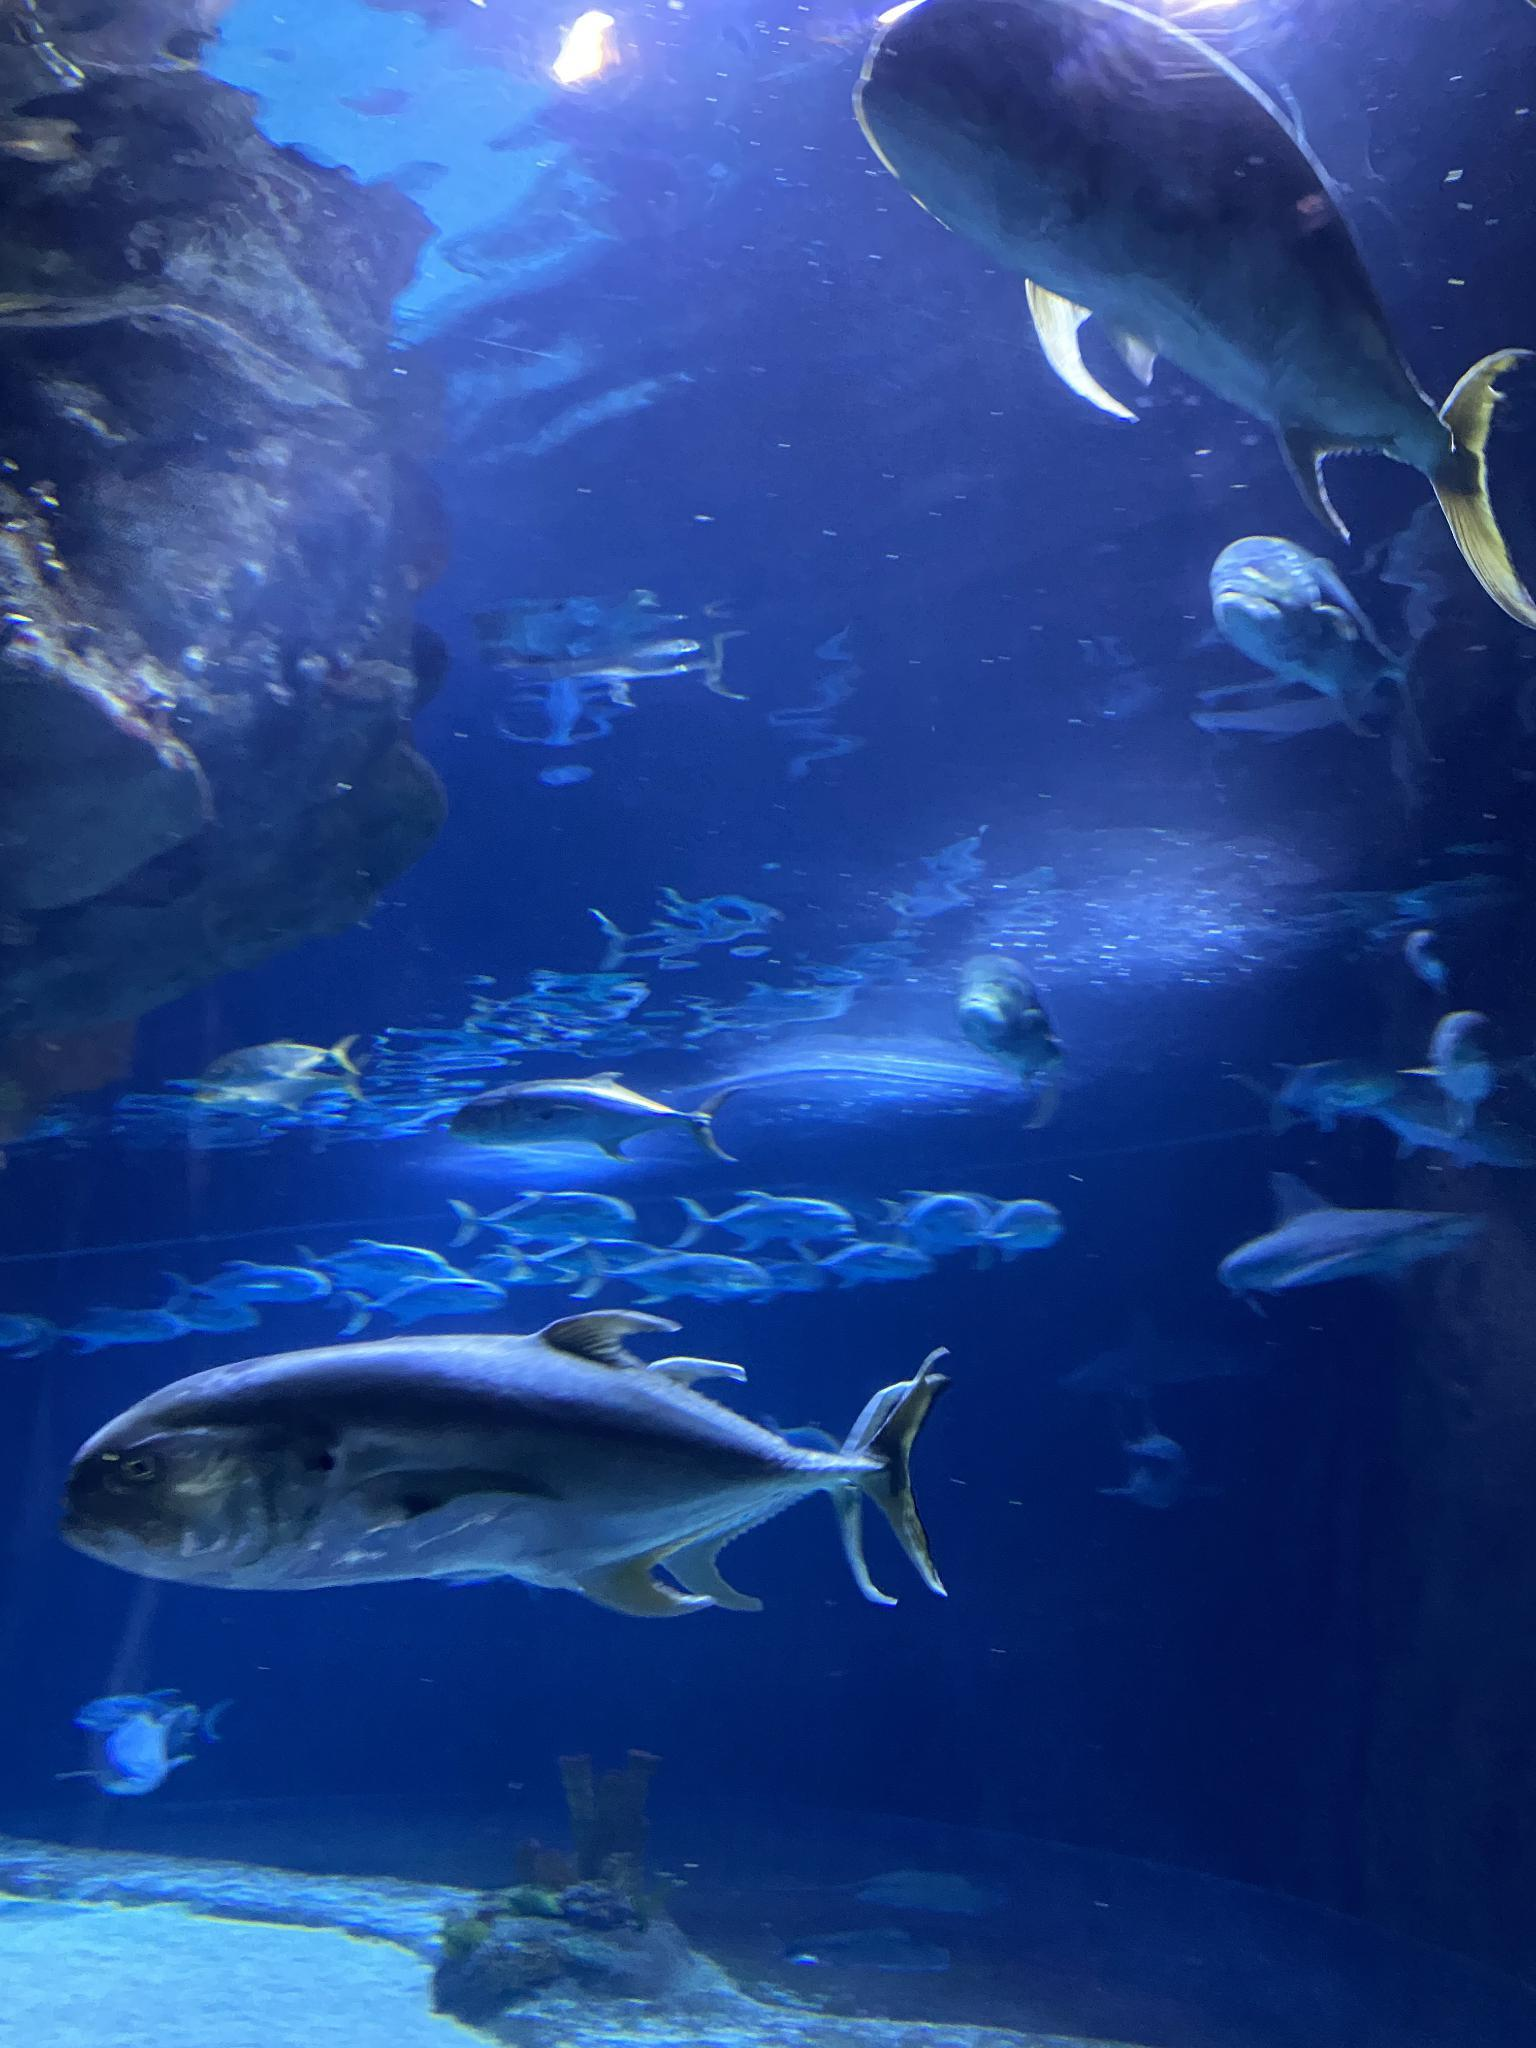fish: (857, 0, 1534, 632), (53, 1305, 950, 1617), (1210, 535, 1421, 739), (449, 1071, 744, 1163), (958, 950, 1070, 1093), (194, 1035, 366, 1113), (573, 1247, 770, 1309), (1226, 1063, 1400, 1134), (674, 1192, 855, 1256), (1404, 1014, 1534, 1101), (55, 1713, 194, 1793), (336, 1274, 505, 1335), (449, 1193, 632, 1245), (76, 1688, 232, 1740), (160, 1259, 331, 1306), (294, 1240, 449, 1288), (879, 1190, 991, 1255), (792, 1240, 936, 1288), (53, 1306, 186, 1350), (984, 1200, 1063, 1263), (720, 1261, 826, 1301), (470, 1251, 571, 1288), (160, 1305, 258, 1332), (0, 1311, 48, 1350)
shark: (1217, 1171, 1484, 1316), (1058, 1306, 1270, 1400), (1099, 1411, 1223, 1509)
stingray: (779, 1930, 952, 1972)
